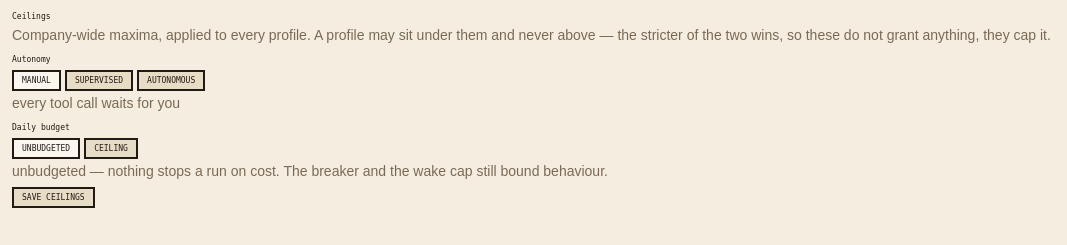
Scenario: the ceilings panel, wired › shows the ceilings still IN FORCE after a refused save, not the edit
Step 1. Click the button "AUTONOMOUS" → point(171, 80), box [137,70,205,91]
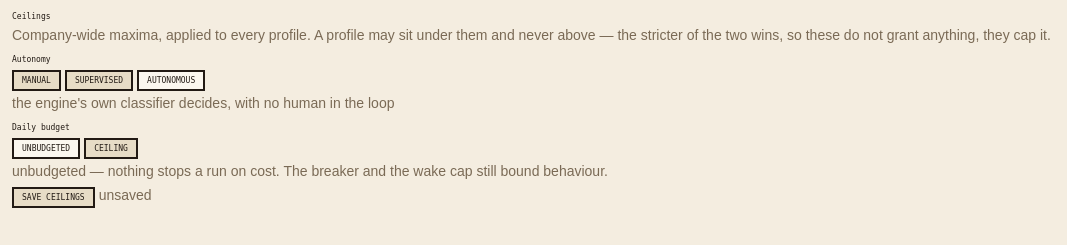
Step 2. Click the button "SAVE CEILINGS" → point(53, 198), box [12,187,95,208]
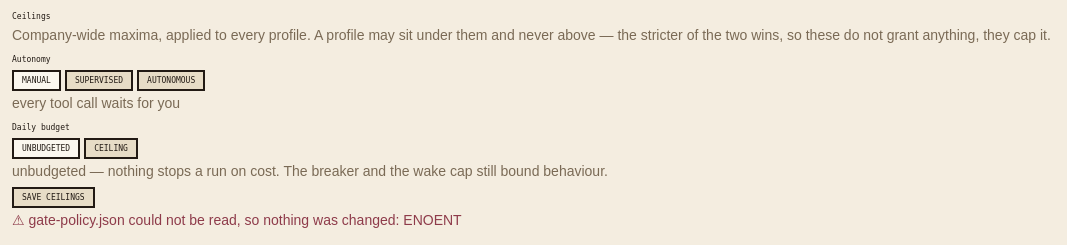
Check: the text "nothing was changed" is shown, box [28,212,462,228]
